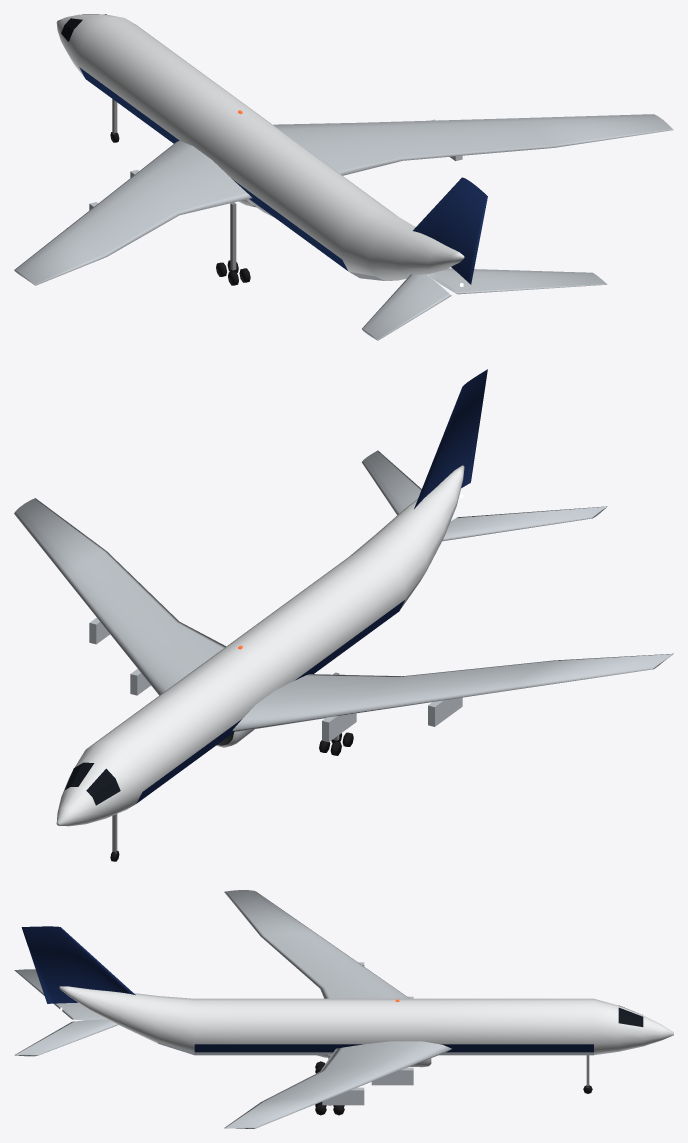
File: fleet_heavy4_lod1.glb
The picture shows the model from 3 angles, top to bottom: view 1: azimuth 30°, elevation 25°; view 2: azimuth 150°, elevation 25°; view 3: azimuth 270°, elevation 25°; orthographic projection. The views are drawn at different scales.
Parts seen in each view (by area): view 1: fleet_heavy4_lod1_wing, fleet_heavy4_lod1_white, fleet_heavy4_lod1_blue, fleet_heavy4_lod1_metal, fleet_heavy4_lod1_tyre; view 2: fleet_heavy4_lod1_white, fleet_heavy4_lod1_wing, fleet_heavy4_lod1_blue, fleet_heavy4_lod1_glass; view 3: fleet_heavy4_lod1_white, fleet_heavy4_lod1_wing, fleet_heavy4_lod1_blue, fleet_heavy4_lod1_belly, fleet_heavy4_lod1_tyre, fleet_heavy4_lod1_glass.
Part boxes in pixels (x1,y1,x2,y2): fleet_heavy4_lod1_wing: [14, 114, 673, 340]; fleet_heavy4_lod1_white: [56, 14, 464, 280]; fleet_heavy4_lod1_blue: [79, 67, 487, 284]; fleet_heavy4_lod1_metal: [112, 99, 236, 270]; fleet_heavy4_lod1_tyre: [110, 132, 250, 285]; fleet_heavy4_lod1_white: [56, 465, 464, 826]; fleet_heavy4_lod1_wing: [14, 450, 673, 742]; fleet_heavy4_lod1_blue: [136, 369, 487, 803]; fleet_heavy4_lod1_glass: [64, 762, 120, 805]; fleet_heavy4_lod1_white: [59, 986, 673, 1055]; fleet_heavy4_lod1_wing: [14, 890, 451, 1128]; fleet_heavy4_lod1_blue: [21, 926, 593, 1052]; fleet_heavy4_lod1_belly: [158, 1042, 593, 1055]; fleet_heavy4_lod1_tyre: [315, 1061, 592, 1115]; fleet_heavy4_lod1_glass: [618, 1005, 643, 1026].
Bounding box in the file's own units: 64.4 × 21.12 × 75.95.
